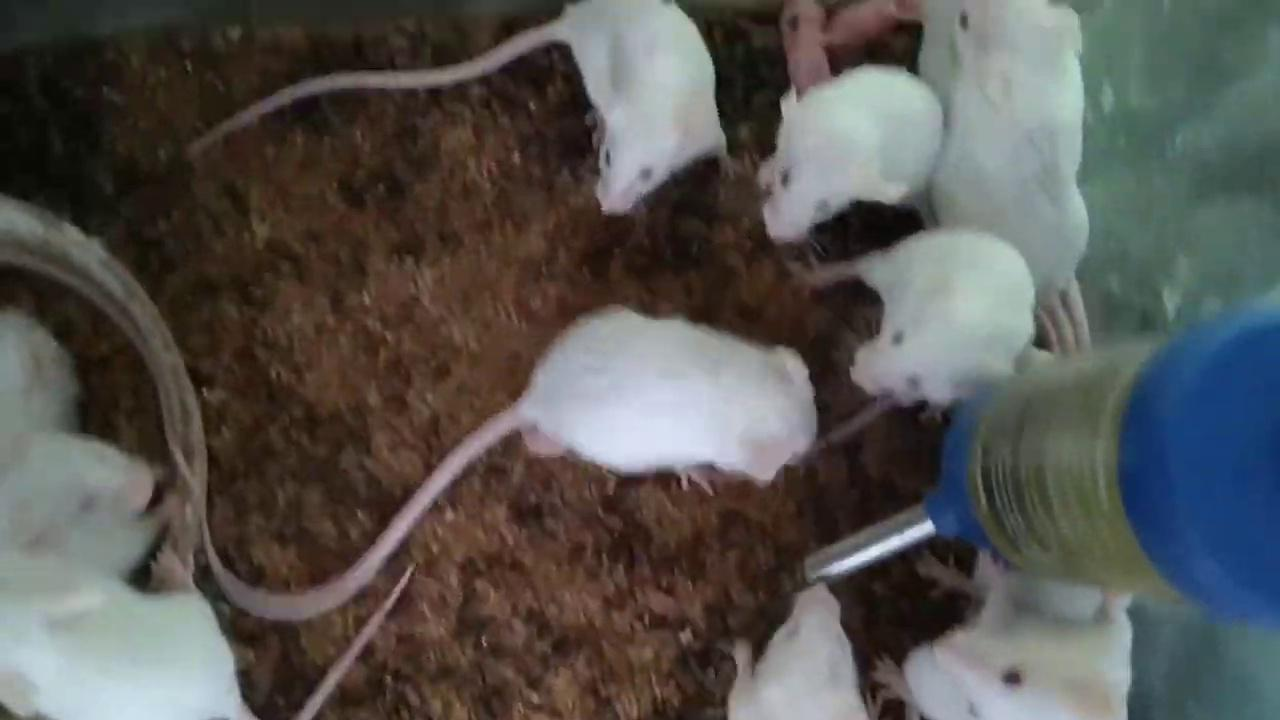rat: (202, 303, 817, 619), (192, 0, 743, 214), (791, 229, 1035, 419), (937, 4, 1090, 304), (759, 67, 943, 242), (0, 431, 178, 581), (729, 584, 884, 720), (934, 614, 1132, 720), (783, 0, 832, 108)
